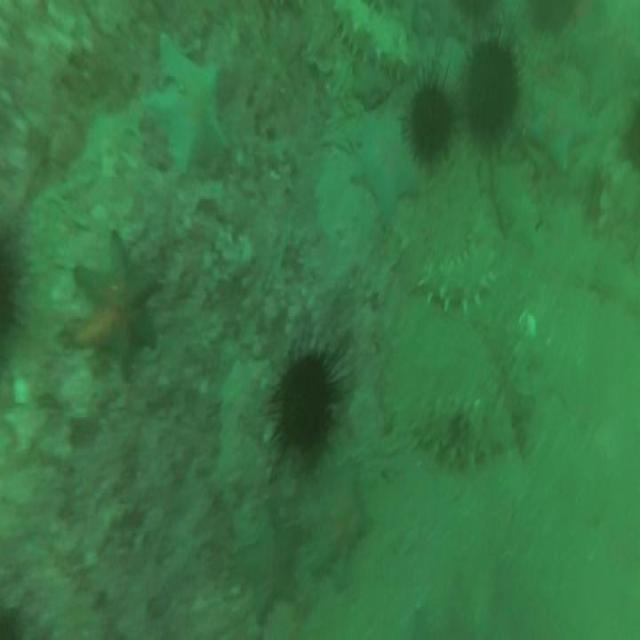echinus: (278, 356, 332, 448), (467, 39, 518, 134), (407, 79, 453, 152)
holothurian: (411, 387, 508, 471), (421, 212, 498, 313), (334, 0, 412, 76)
starfish: (70, 236, 159, 376), (148, 32, 230, 180), (303, 472, 369, 586), (353, 110, 419, 222), (244, 512, 302, 616), (531, 86, 593, 168)
